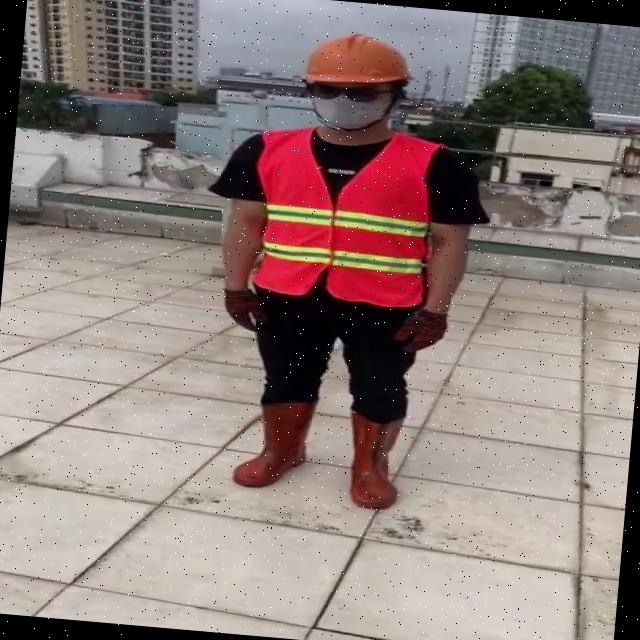boots: (232, 400, 318, 490), (342, 412, 406, 512)
helmet: (296, 28, 414, 92)
vest: (248, 123, 436, 310)
